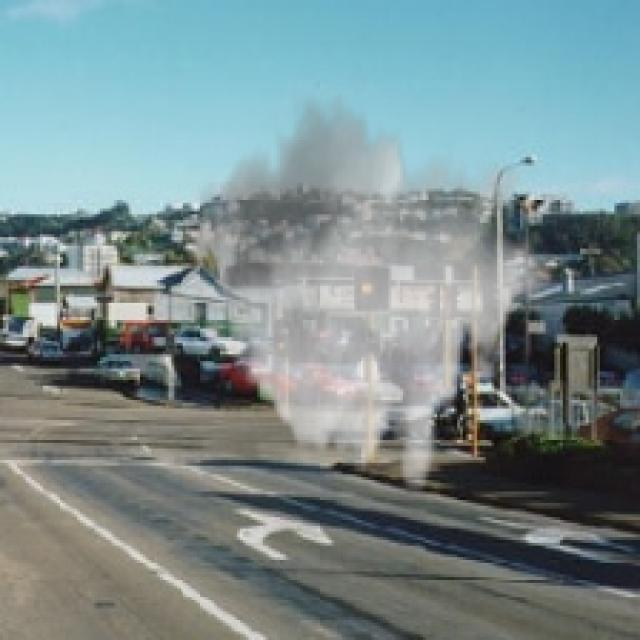Smoke: (186, 88, 554, 500)
